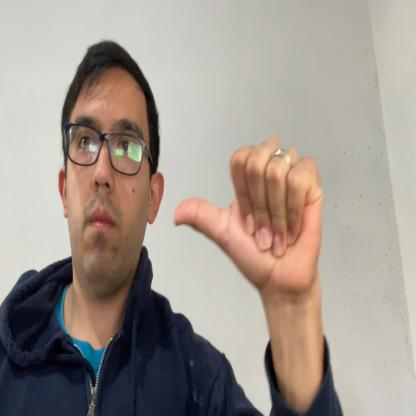A: (174, 133, 325, 295)
